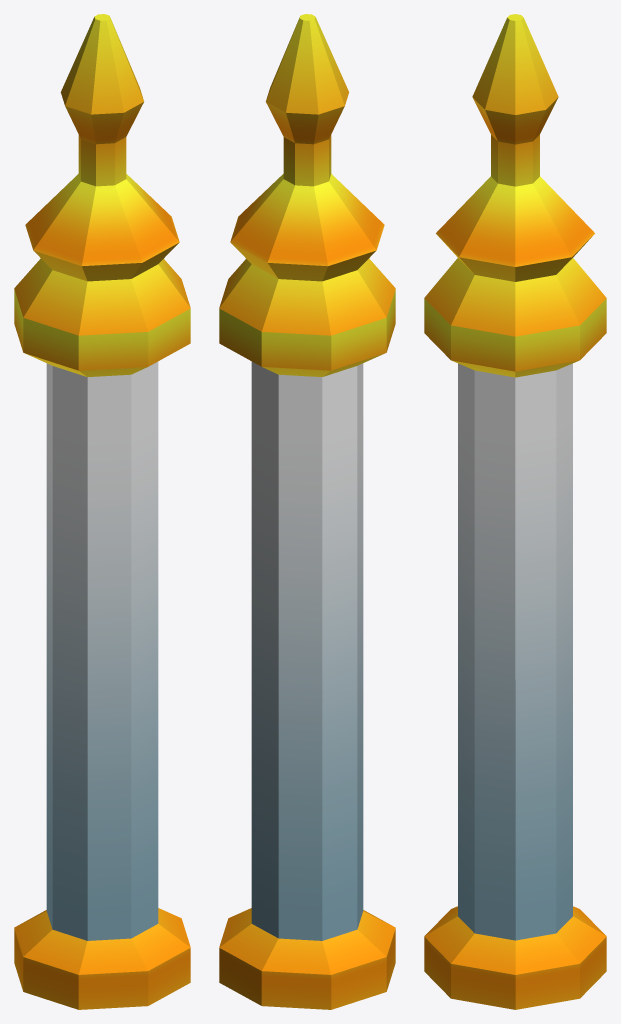
The model's file is Monument_Residential.fbx.
The picture shows the model from 3 angles, left to right: view 1: azimuth 30°, elevation 25°; view 2: azimuth 150°, elevation 25°; view 3: azimuth 270°, elevation 25°; orthographic projection.
Parts seen in each view (by area): view 1: Monument_Residential; view 2: Monument_Residential; view 3: Monument_Residential.
Part boxes in pixels (x1=…): Monument_Residential: x1=14, y1=14, x2=190, y2=1009; Monument_Residential: x1=219, y1=14, x2=395, y2=1009; Monument_Residential: x1=424, y1=14, x2=606, y2=1009.
Size of the model in its own units: 427 by 2460 by 427.
